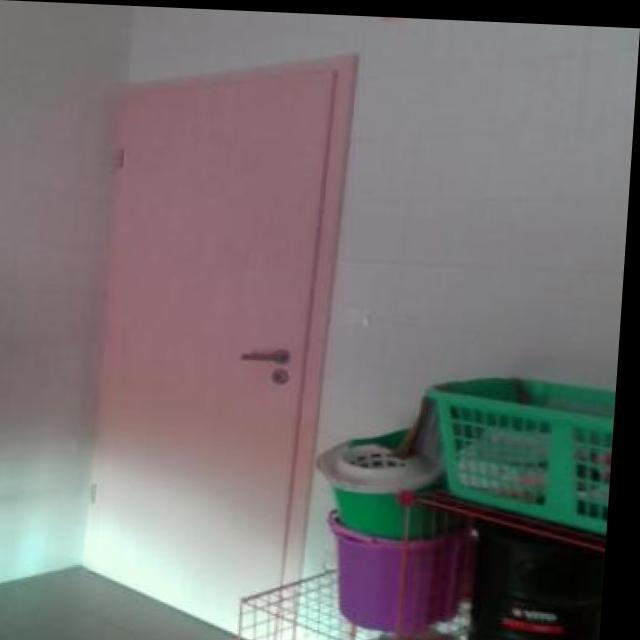door_handle: (234, 341, 301, 365)
